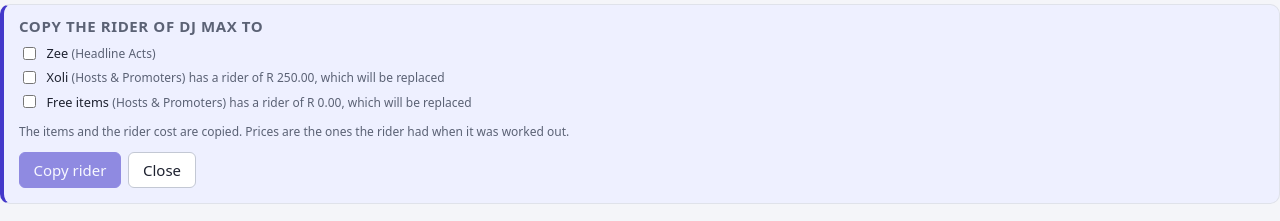
Test: CopyRiderPanel › cannot be pressed twice while copying
Click the checkbox labelled "Zee (Headline Acts)": (30, 53) [23,46,36,60]
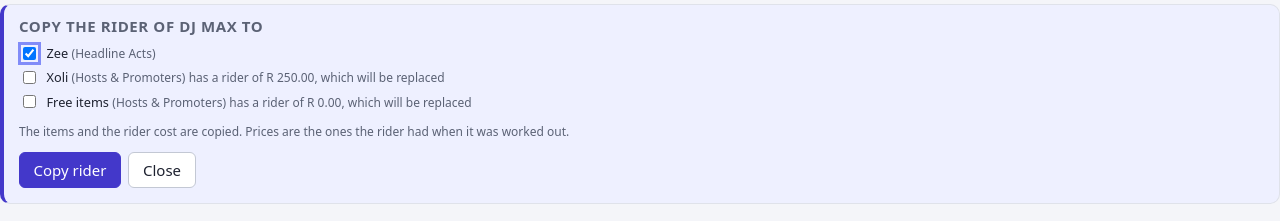
Click the button "Copy rider": (70, 170) [19,152,121,188]
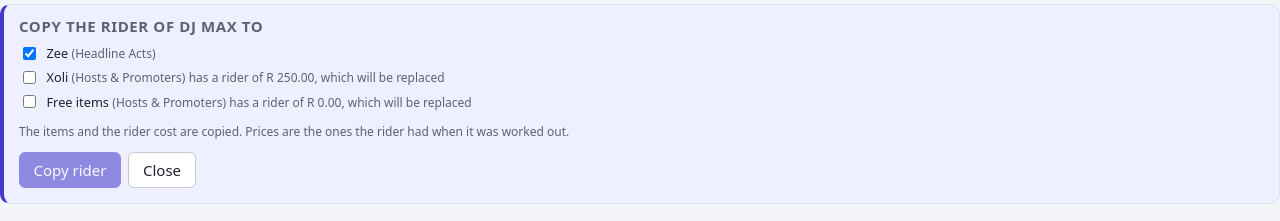
Result: the button "Copy rider" is disabled at [19,152,121,188]
